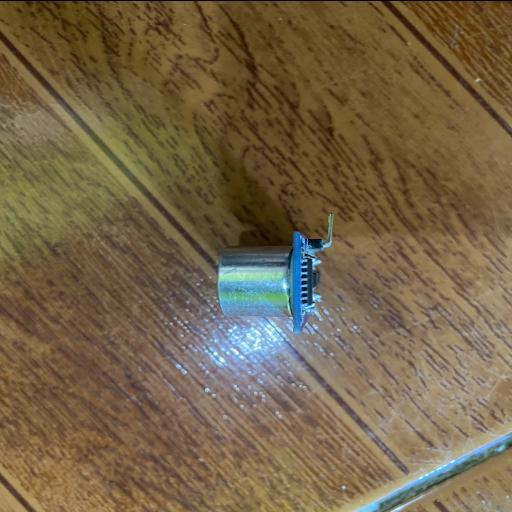Ultrasonic Sensor: (217, 211, 335, 335)
